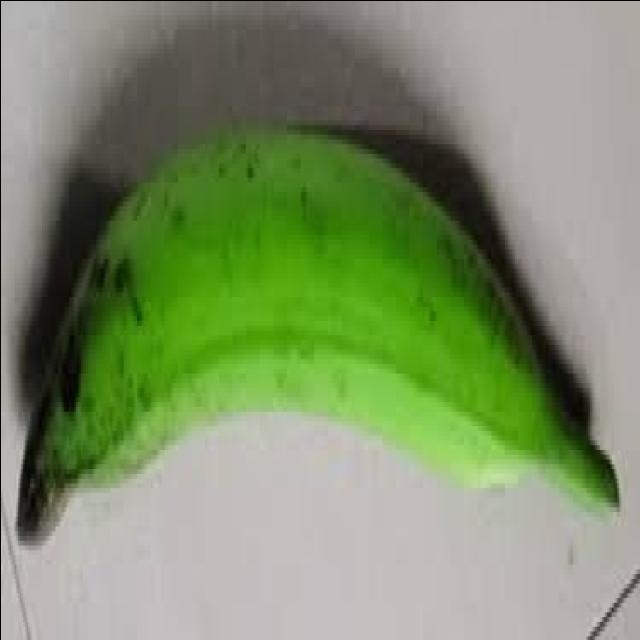agrume: (12, 121, 620, 555)
